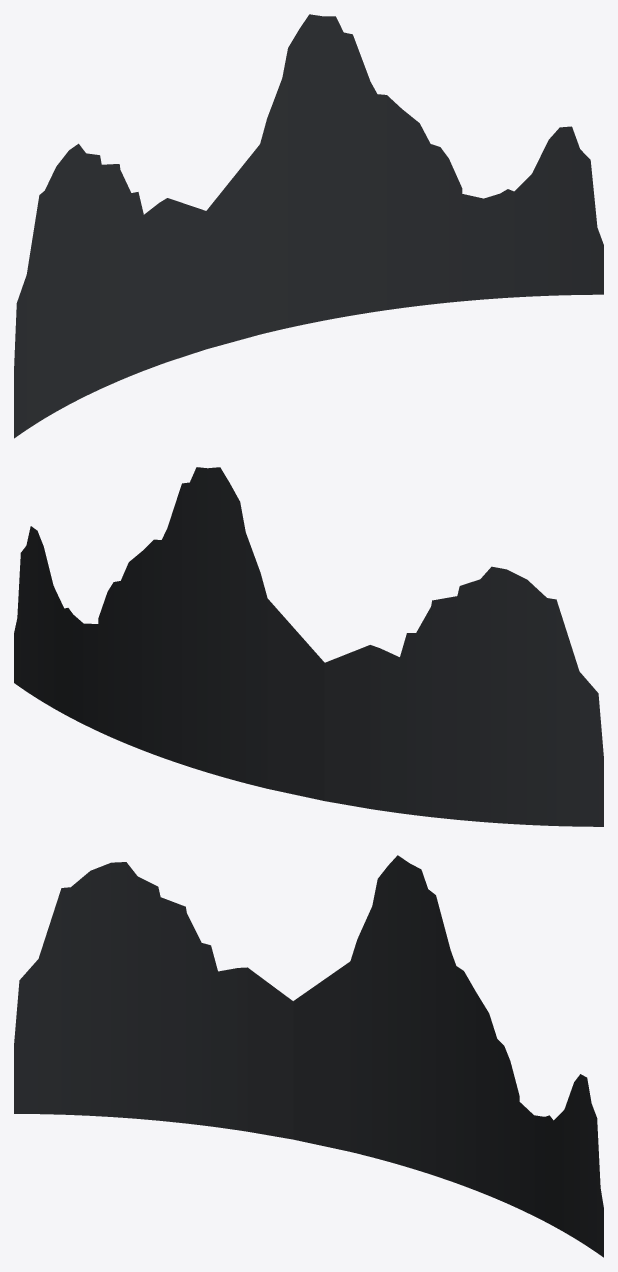
Rendered from SM_Gen_Env_Background_Mountain_03.glb.
3 views of the same model, one above another, from view 1: azimuth 30°, elevation 25°; view 2: azimuth 150°, elevation 25°; view 3: azimuth 330°, elevation 25° (orthographic).
Visible parts, largest first — view 1: SM_Gen_Env_Background_Mountain_03; view 2: SM_Gen_Env_Background_Mountain_03; view 3: SM_Gen_Env_Background_Mountain_03.
Part boxes in pixels (left/top/right/bottom): SM_Gen_Env_Background_Mountain_03: left=14, top=14, right=603, bottom=438; SM_Gen_Env_Background_Mountain_03: left=14, top=467, right=603, bottom=826; SM_Gen_Env_Background_Mountain_03: left=14, top=855, right=603, bottom=1257.
Bounding box in the file's own units: 101 × 50.45 × 13.35.
1 material, 1 textured.
